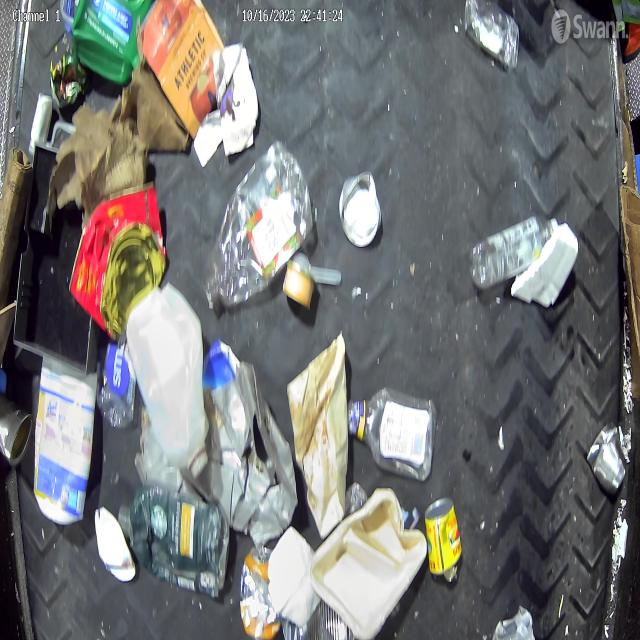can: (69, 179, 167, 341), (239, 544, 280, 640), (338, 170, 382, 248), (49, 30, 89, 109), (426, 496, 462, 583), (588, 424, 630, 495), (0, 404, 34, 469), (282, 260, 315, 309), (492, 606, 538, 640)
milk_jug: (130, 284, 208, 481)
non_white_jug: (35, 352, 95, 527), (72, 0, 152, 86)
plastic_bottle: (206, 136, 314, 314), (349, 389, 437, 480), (469, 212, 561, 290), (98, 340, 138, 430)
